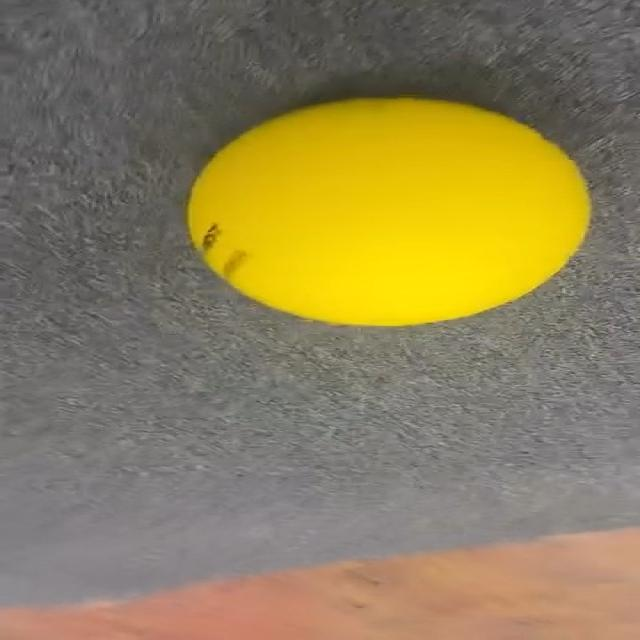Fuels: (189, 93, 594, 320)
